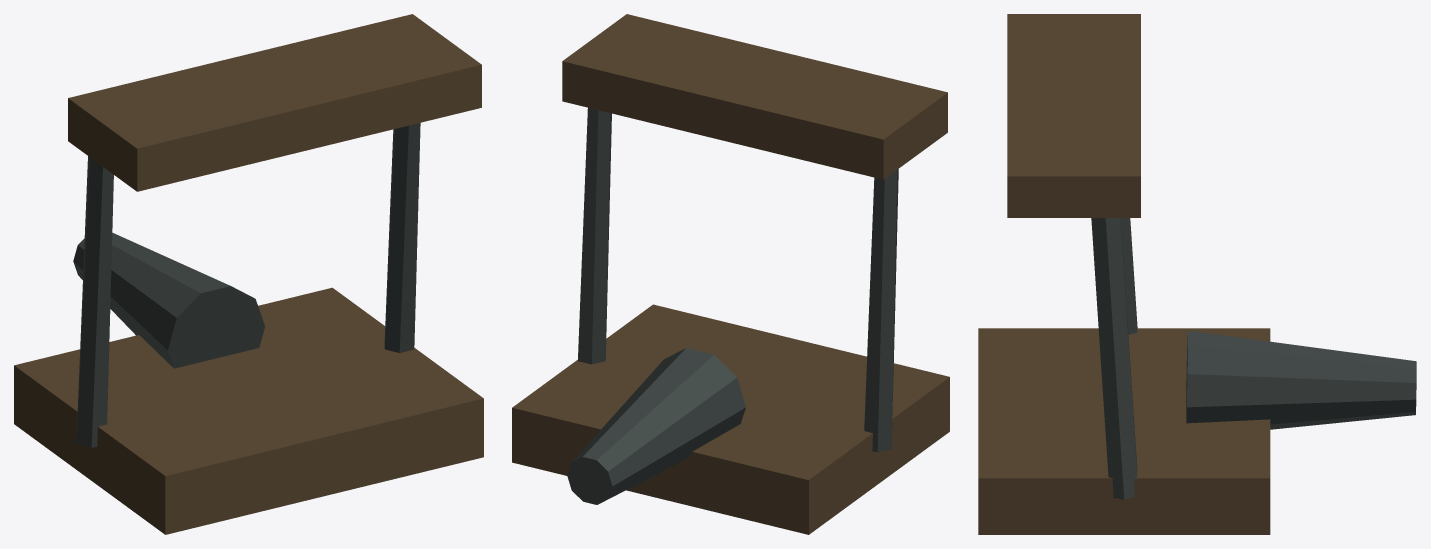
File: strange_bellows.glb
3 views of the same model, side by side, from view 1: azimuth 30°, elevation 25°; view 2: azimuth 150°, elevation 25°; view 3: azimuth 270°, elevation 25° (orthographic). The views are drawn at different scales.
Visible parts, largest first — view 1: strange_bellows; view 2: strange_bellows; view 3: strange_bellows.
Boxes of the visible parts, box(x1,y1,x2,y2) form: strange_bellows: box(14, 14, 483, 534); strange_bellows: box(512, 14, 949, 534); strange_bellows: box(978, 14, 1416, 534).
Bounding box in the file's own units: 0.92 × 0.965 × 1.05.
